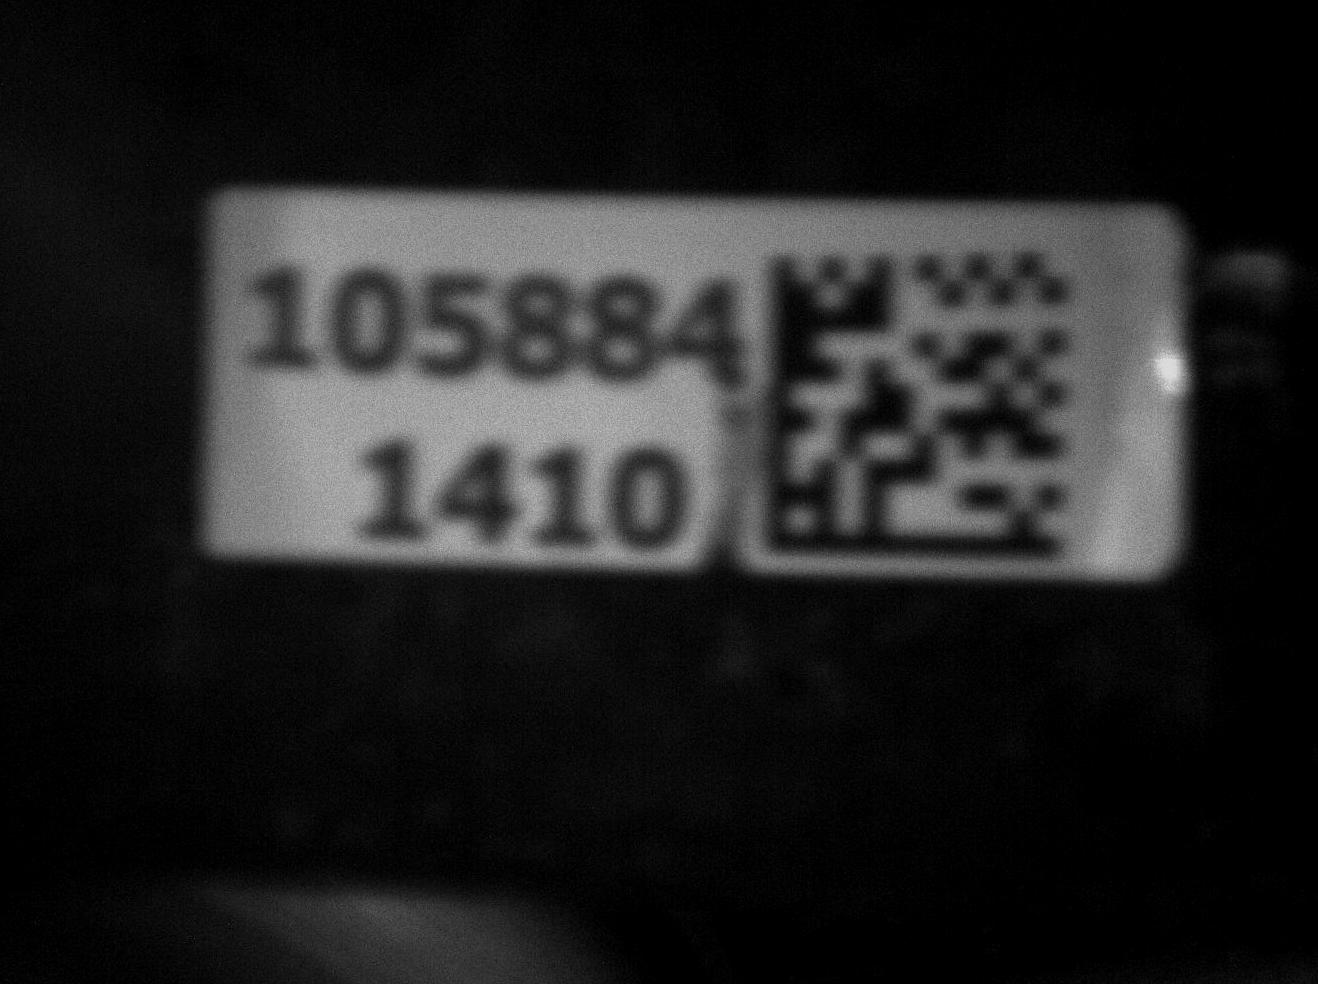data matrix: (746, 226, 1092, 585)
